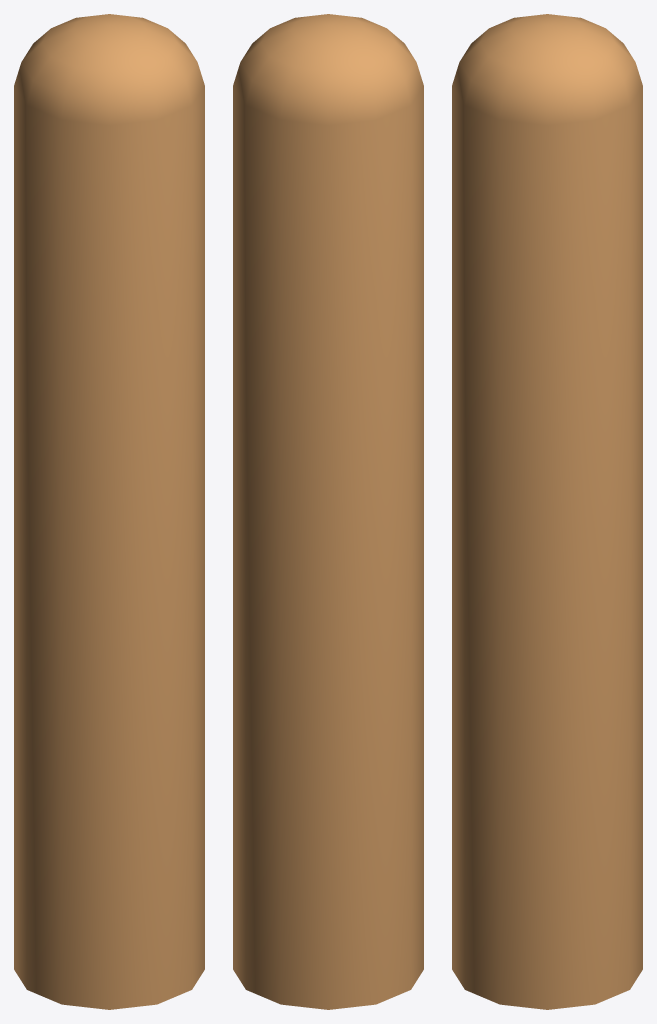
The model's file is prop_fence_wood_post.glb.
The picture shows the model from 3 angles, left to right: view 1: azimuth 30°, elevation 25°; view 2: azimuth 150°, elevation 25°; view 3: azimuth 270°, elevation 25°; orthographic projection.
Parts seen in each view (by area): view 1: prop_fence_wood_post; view 2: prop_fence_wood_post; view 3: prop_fence_wood_post.
Part boxes in pixels (x1=…): prop_fence_wood_post: x1=14, y1=14, x2=204, y2=1009; prop_fence_wood_post: x1=233, y1=14, x2=423, y2=1009; prop_fence_wood_post: x1=452, y1=14, x2=642, y2=1009.
Size of the model in its own units: 0.15 by 0.82 by 0.15.
